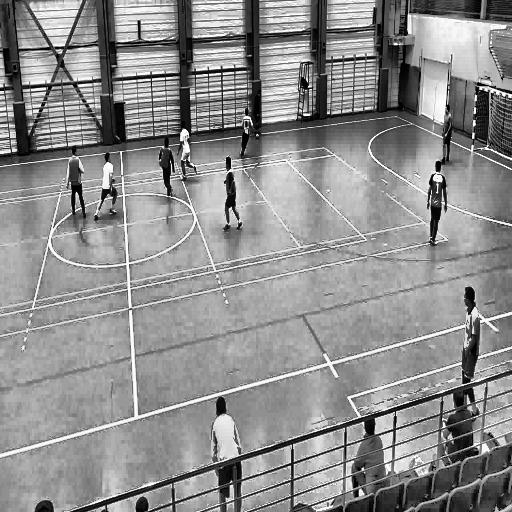ball: (254, 131, 262, 141)
player: (210, 392, 244, 506), (460, 284, 482, 422), (426, 158, 449, 246), (223, 156, 246, 236), (93, 152, 119, 222), (65, 143, 87, 221), (177, 119, 198, 184), (158, 135, 176, 200), (239, 108, 254, 160), (440, 102, 452, 167), (253, 87, 263, 136)
